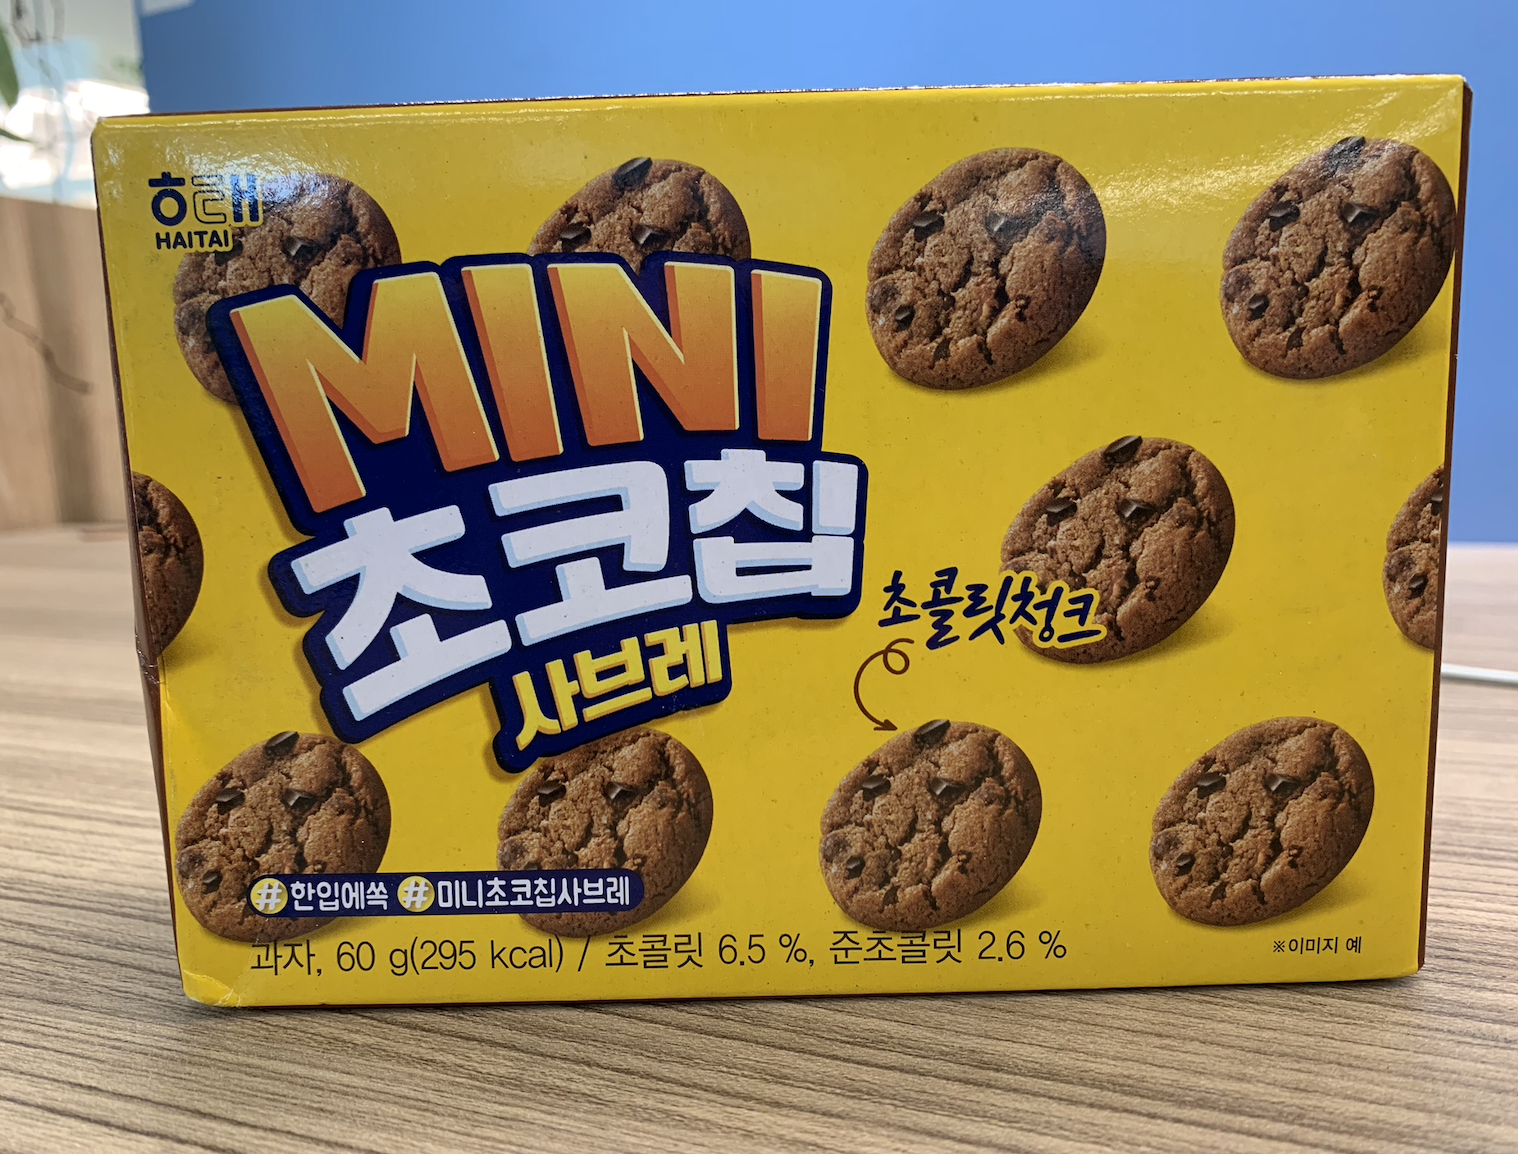cookies_1g-99g: (150, 131, 1419, 977)
